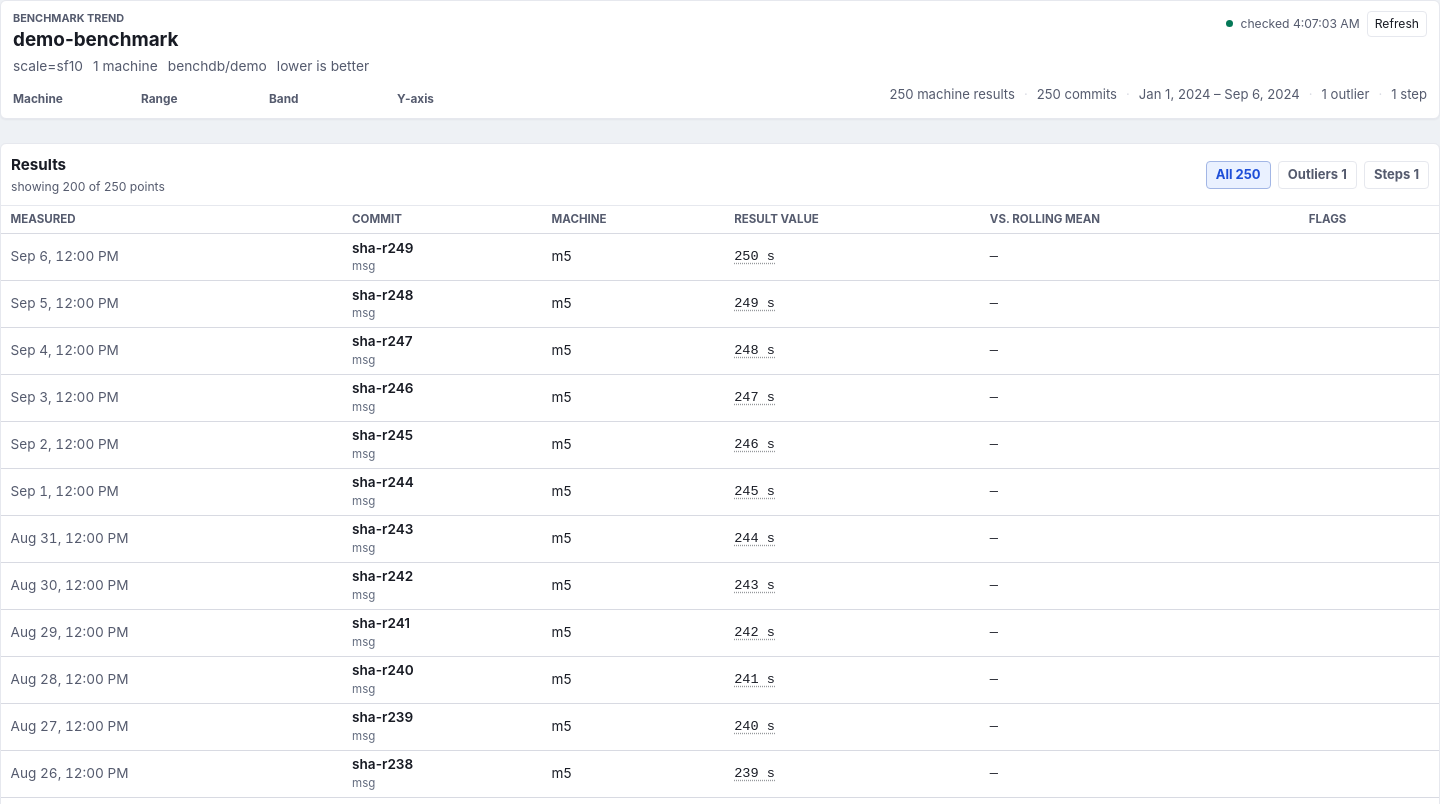
it: TrendPage › summarizes and filters flagged points before applying the history cap
Expected: the text "250 machine results" is shown, [889, 85, 1015, 104]
Expected: the text "1 outlier" is shown, [1300, 85, 1369, 104]
Step 1. Click the button "Outliers 1" → click(1317, 175), box [1278, 161, 1357, 189]
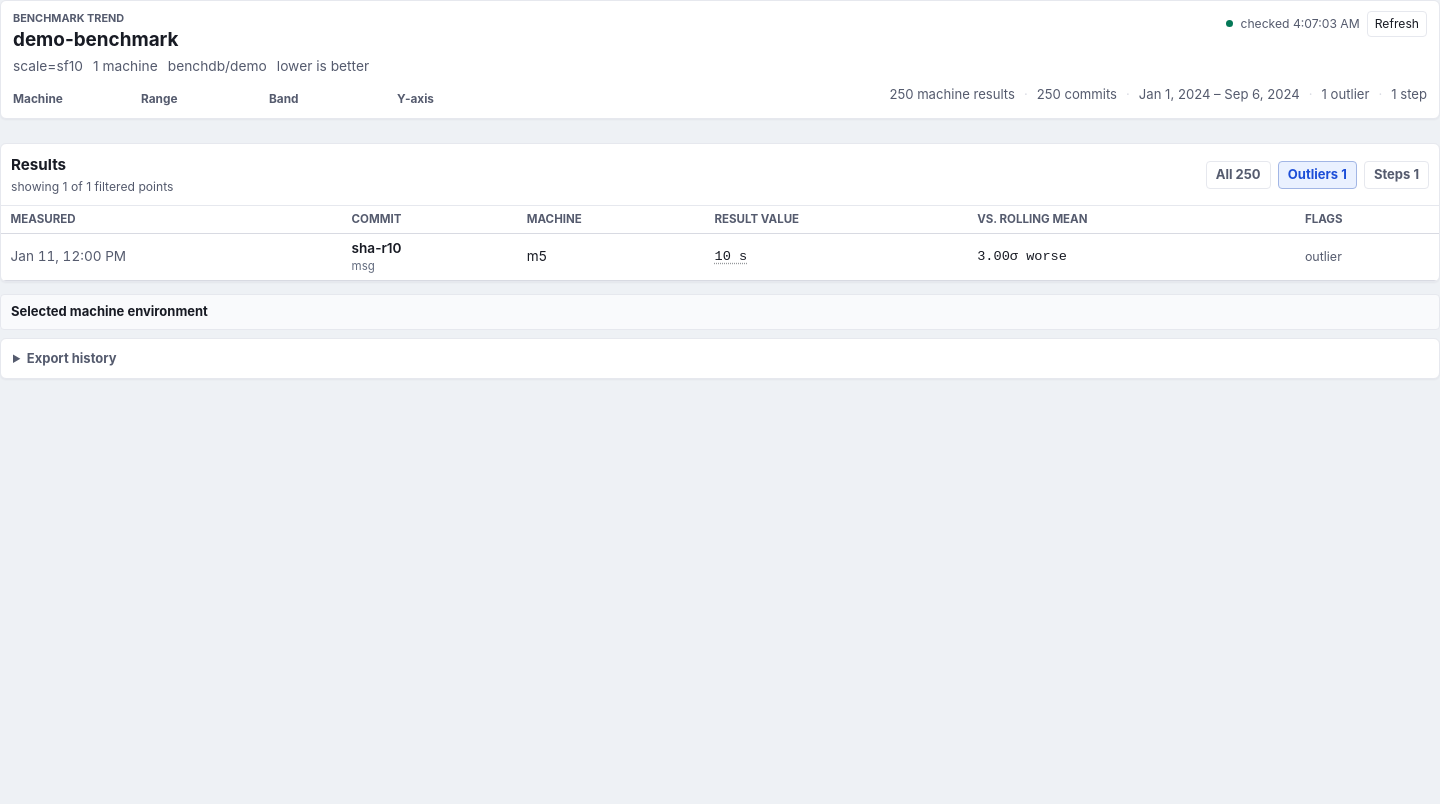
Expected: the link "sha-r10" is shown, [352, 240, 402, 256]
Now the text "showing 1 of 1 filtered points" is shown, box [11, 178, 174, 195]
Now the link "sha-r249" is gone
Step 2. Click the button "Steps 1" → click(1396, 175), box [1364, 161, 1429, 189]
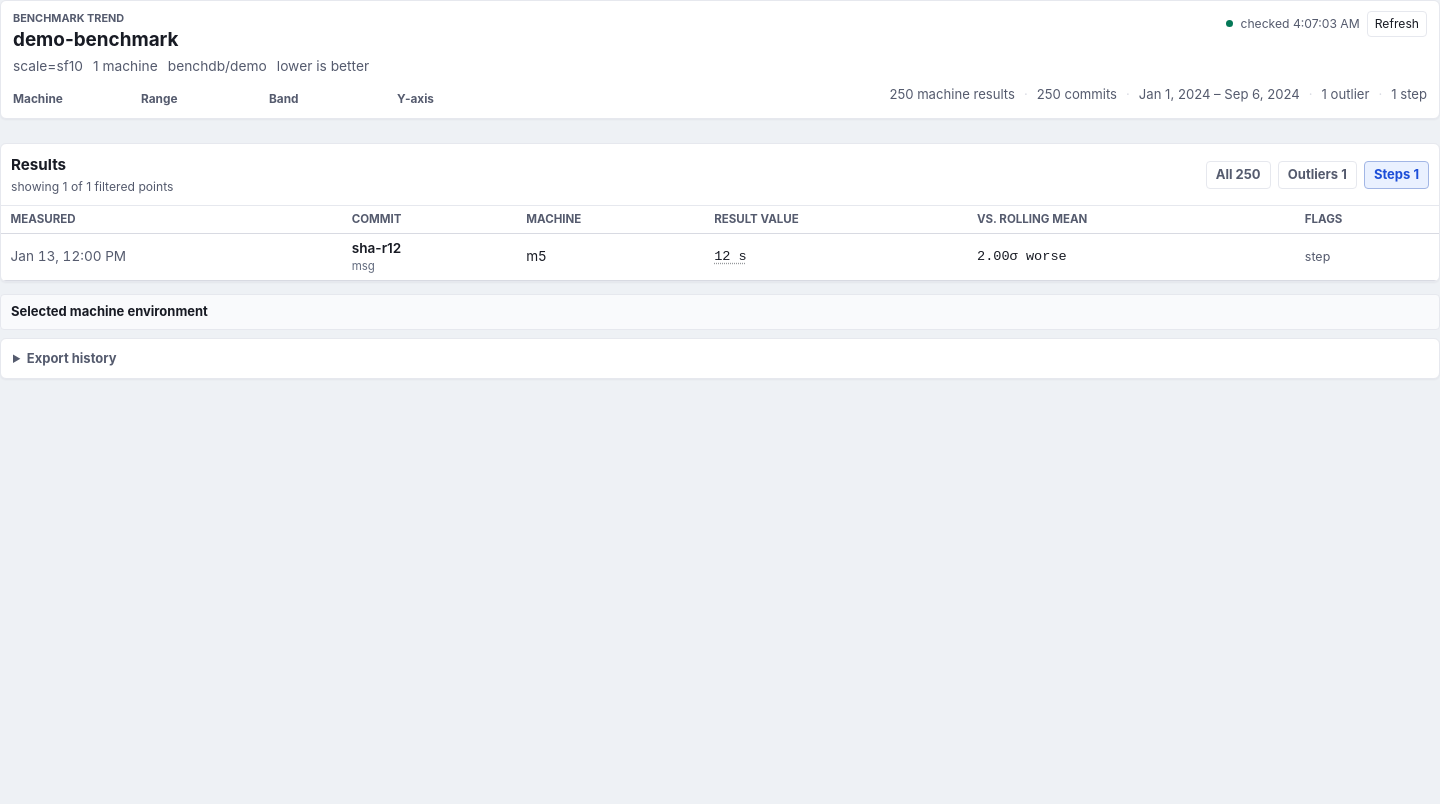
Now the link "sha-r12" is shown, box [352, 240, 401, 256]
Now the link "sha-r10" is gone
